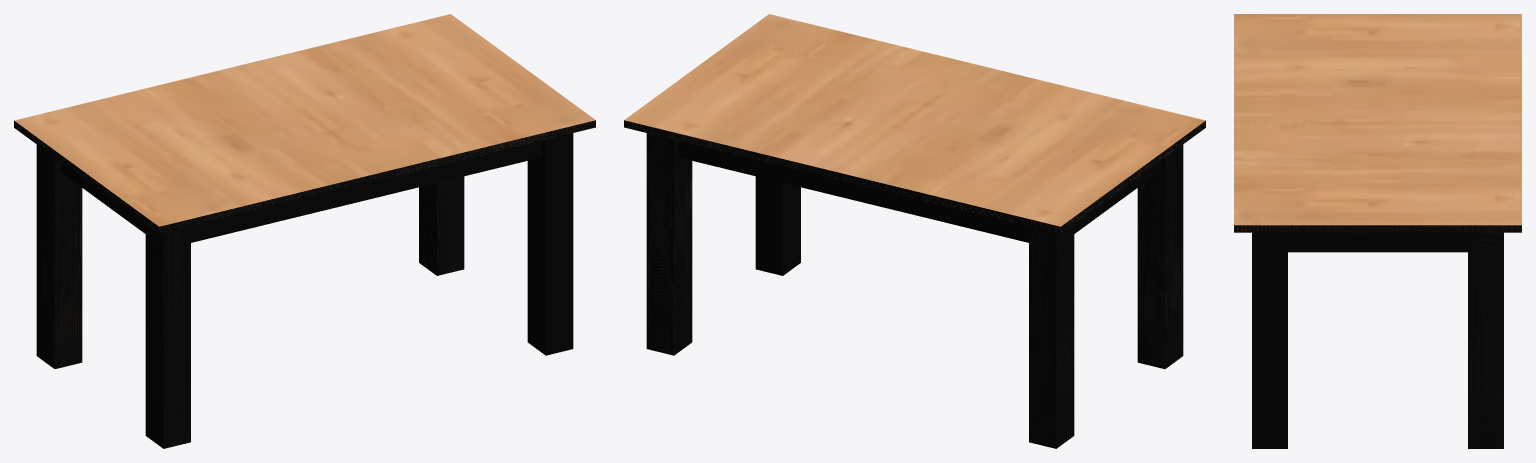
3 views of the same model, side by side, from view 1: azimuth 30°, elevation 25°; view 2: azimuth 150°, elevation 25°; view 3: azimuth 270°, elevation 25° (orthographic).
Visible parts, largest first — view 1: mesh1_mesh1-geometry; view 2: mesh1_mesh1-geometry; view 3: mesh1_mesh1-geometry.
Boxes of the visible parts, box(x1,y1,x2,y2) form: mesh1_mesh1-geometry: box(14, 14, 595, 448); mesh1_mesh1-geometry: box(624, 14, 1205, 448); mesh1_mesh1-geometry: box(1234, 14, 1521, 448).
Bounding box in the file's own units: 0.7932 × 0.4029 × 0.4566.
